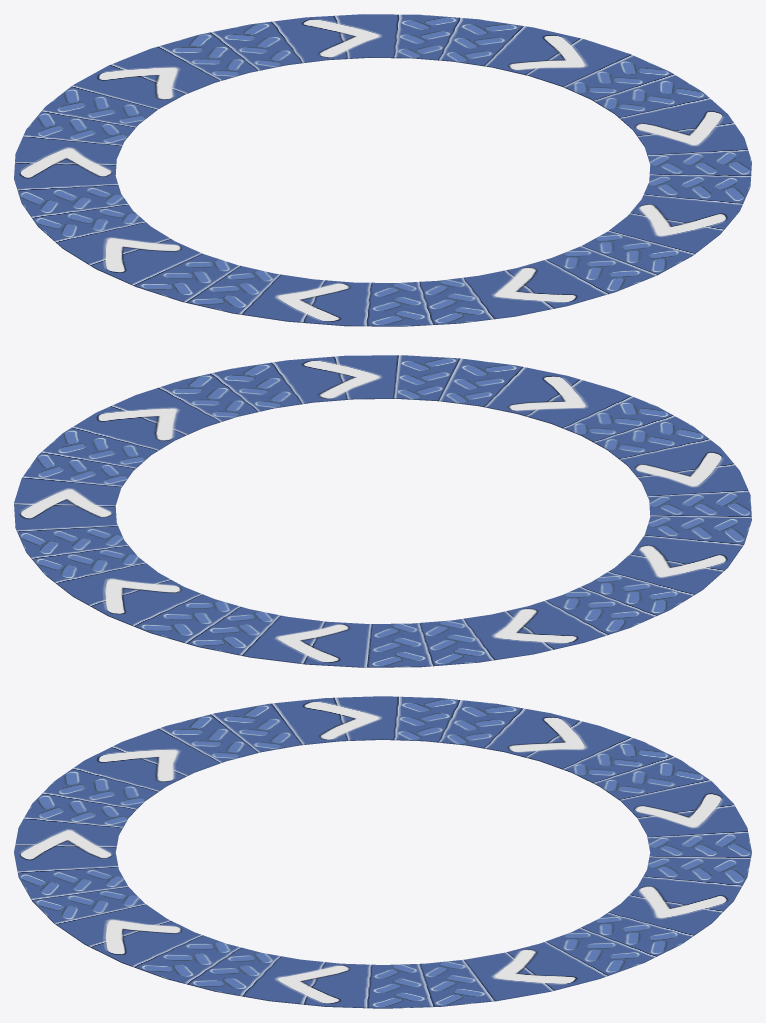
Rendered from Moving.Road.001.fbx.
The picture shows the model from 3 angles, top to bottom: view 1: azimuth 30°, elevation 25°; view 2: azimuth 150°, elevation 25°; view 3: azimuth 270°, elevation 25°; orthographic projection.
Visible parts, largest first — view 1: Moving.Road.001; view 2: Moving.Road.001; view 3: Moving.Road.001.
Part boxes in pixels (left/top/right/bottom): Moving.Road.001: left=14, top=14, right=751, bottom=326; Moving.Road.001: left=14, top=355, right=751, bottom=667; Moving.Road.001: left=14, top=696, right=751, bottom=1008.
Size of the model in its own units: 17.4 by 0.0204 by 17.4.
